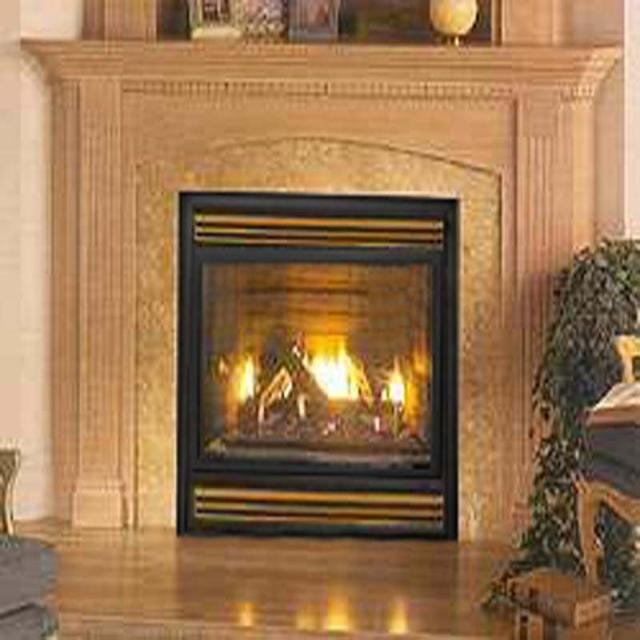Fire: (314, 358, 362, 394)
